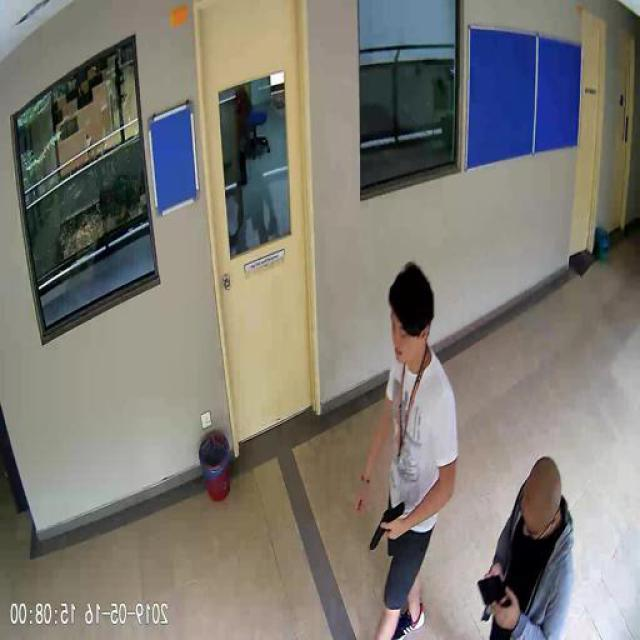Gun: (372, 500, 407, 551)
